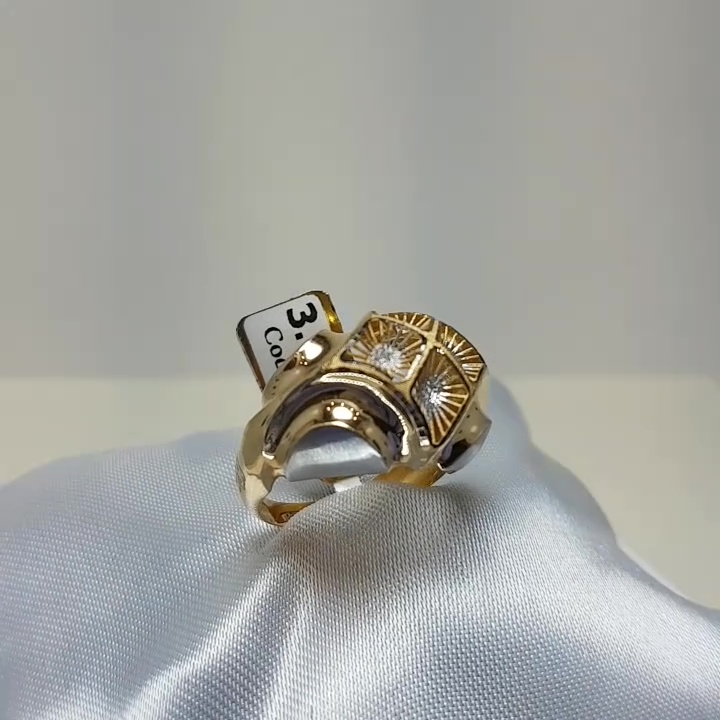Ring 2: (206, 287, 503, 540)
